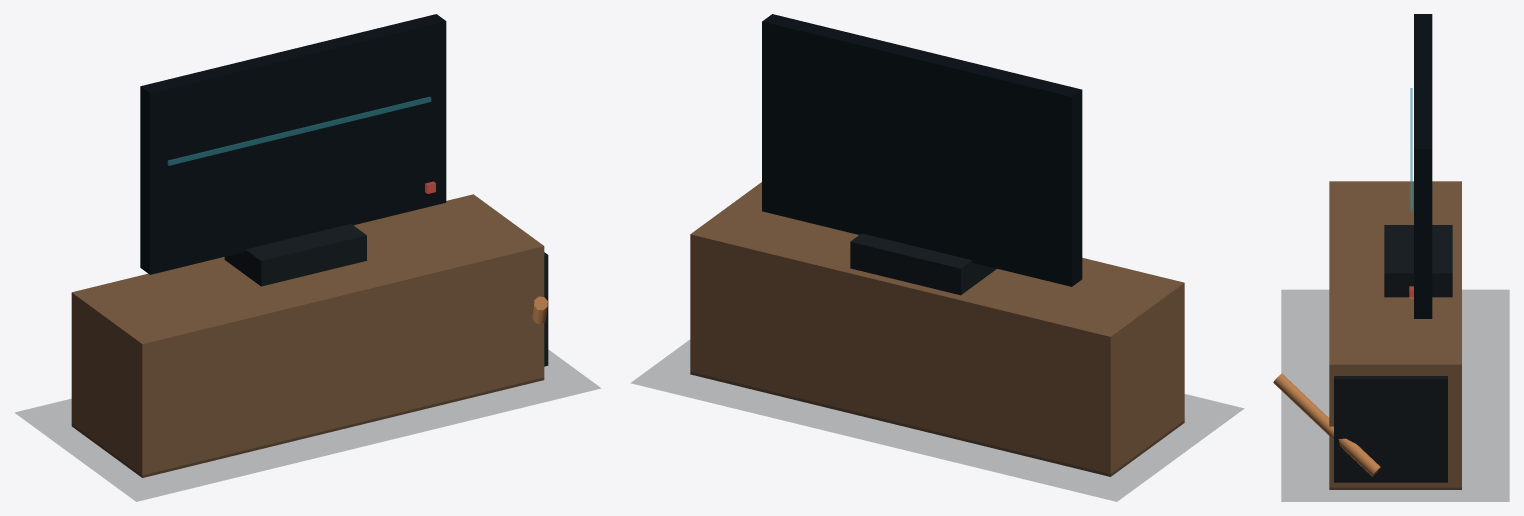
Rendered from hp_room_cyber_tv_shrine.glb.
3 views of the same model, side by side, from view 1: azimuth 30°, elevation 25°; view 2: azimuth 150°, elevation 25°; view 3: azimuth 270°, elevation 25° (orthographic). The views are drawn at different scales.
Visible parts, largest first — view 1: tv_panel, wood_cabinet, wood_shelf, contact_shadow, tv_stand, tv_static_line; view 2: wood_cabinet, tv_panel, wood_shelf, contact_shadow, tv_stand; view 3: contact_shadow, wood_shelf, torn_side_cavity, tv_panel, tv_stand, wood_cabinet, lab_cable, tv_static_line.
Part boxes in pixels (x1,y1,x2,y2): tv_panel: (140,14,446,274); wood_cabinet: (71,257,544,477); wood_shelf: (71,194,544,354); contact_shadow: (15,350,600,501); tv_stand: (224,224,366,286); tv_static_line: (167,96,431,165); wood_cabinet: (690,245,1184,476); tv_panel: (762,14,1082,286); wood_shelf: (690,182,1184,348); contact_shadow: (631,340,1243,501); tv_stand: (850,233,996,295); contact_shadow: (1281,290,1509,501); wood_shelf: (1329,181,1461,374); torn_side_cavity: (1334,376,1447,482); tv_panel: (1414,14,1432,318); tv_stand: (1384,225,1452,297); wood_cabinet: (1329,374,1461,489); lab_cable: (1273,373,1380,476); tv_static_line: (1410,88,1412,211).
Size of the model in its own units: 2.2 by 1.53 by 1.04.
